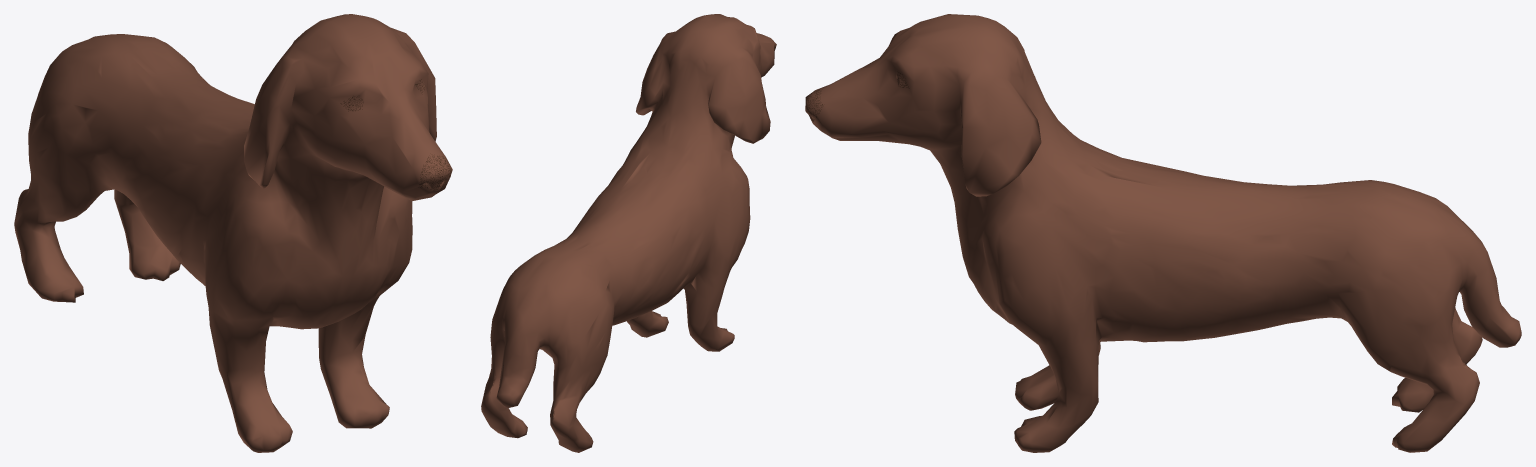
Rendered from oscar.dae.
3 renders of one model, left to right at view 1: azimuth 30°, elevation 25°; view 2: azimuth 150°, elevation 25°; view 3: azimuth 270°, elevation 25°, orthographic. The views are drawn at different scales.
Visible parts, largest first — view 1: throwable_oscar; view 2: throwable_oscar; view 3: throwable_oscar.
Boxes of the visible parts, x1,y1,x2,y2 form: throwable_oscar: (14, 14, 452, 452); throwable_oscar: (481, 14, 776, 452); throwable_oscar: (805, 14, 1521, 452).
Bounding box in the file's own units: 0.9795 × 3.65 × 2.27.
